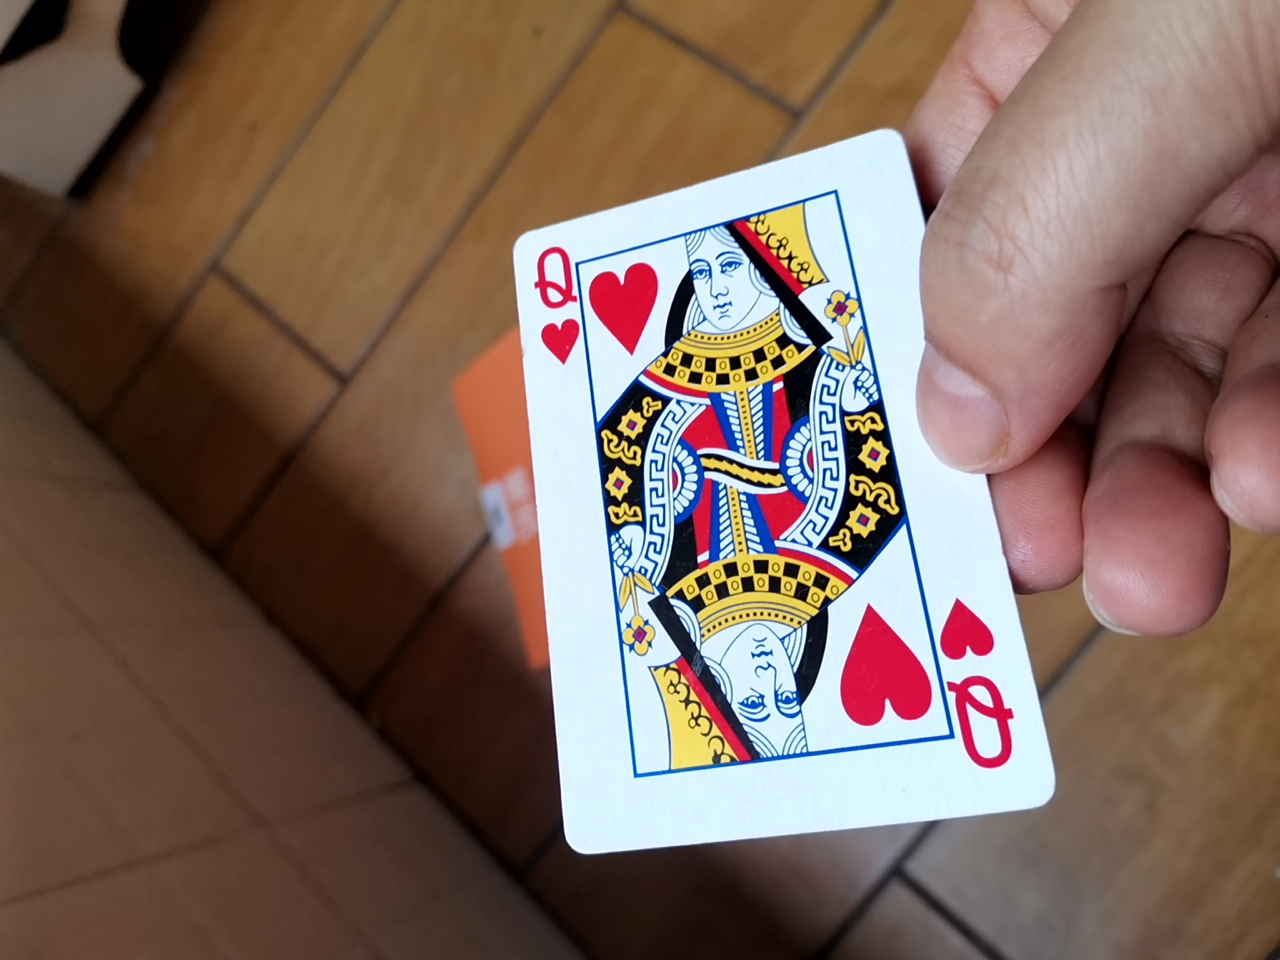hx q: (501, 136, 1052, 857)
